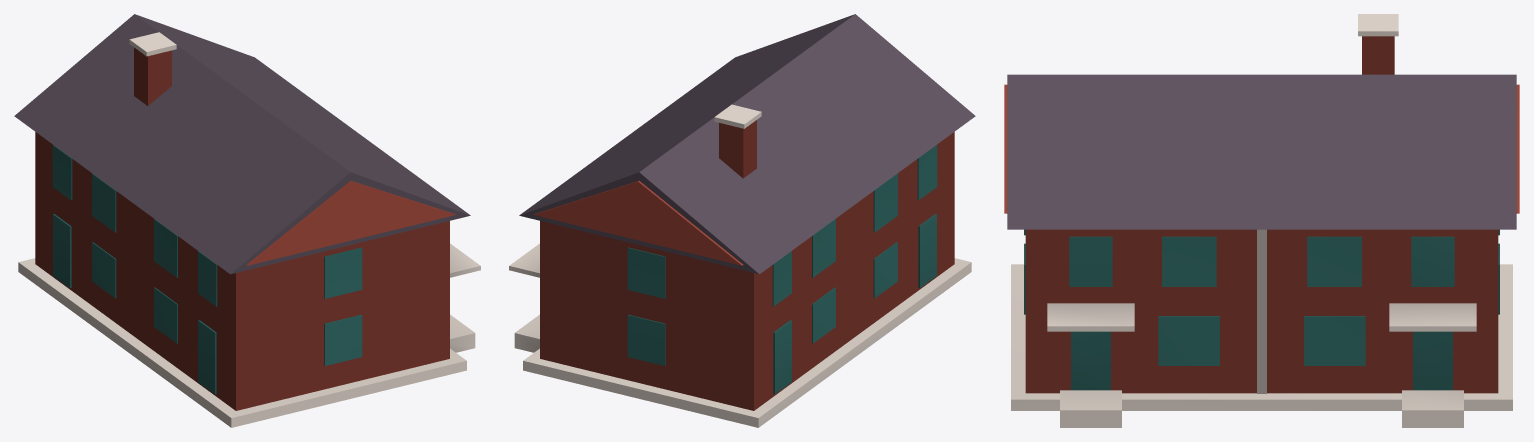
3 views of the same model, side by side, from view 1: azimuth 30°, elevation 25°; view 2: azimuth 150°, elevation 25°; view 3: azimuth 270°, elevation 25° (orthographic). The views are drawn at different scales.
Visible parts, largest first — view 1: body_pal_brick, body_pal_asphalt, body_pal_backpackTeal, body_pal_picketWhite; view 2: body_pal_brick, body_pal_asphalt, body_pal_backpackTeal, body_pal_picketWhite; view 3: body_pal_asphalt, body_pal_brick, body_pal_picketWhite, body_pal_backpackTeal.
Boxes of the visible parts, x1,y1,x2,y2 form: body_pal_brick: [35, 47, 455, 410]; body_pal_asphalt: [14, 14, 470, 274]; body_pal_backpackTeal: [52, 145, 362, 394]; body_pal_picketWhite: [18, 32, 480, 427]; body_pal_brick: [534, 120, 954, 410]; body_pal_asphalt: [519, 14, 975, 274]; body_pal_backpackTeal: [627, 145, 937, 394]; body_pal_picketWhite: [509, 104, 971, 427]; body_pal_asphalt: [1007, 74, 1516, 229]; body_pal_brick: [1004, 36, 1519, 393]; body_pal_picketWhite: [1011, 14, 1512, 427]; body_pal_backpackTeal: [1024, 229, 1499, 390].
Size of the model in its own units: 10 by 9.03 by 14.16.
